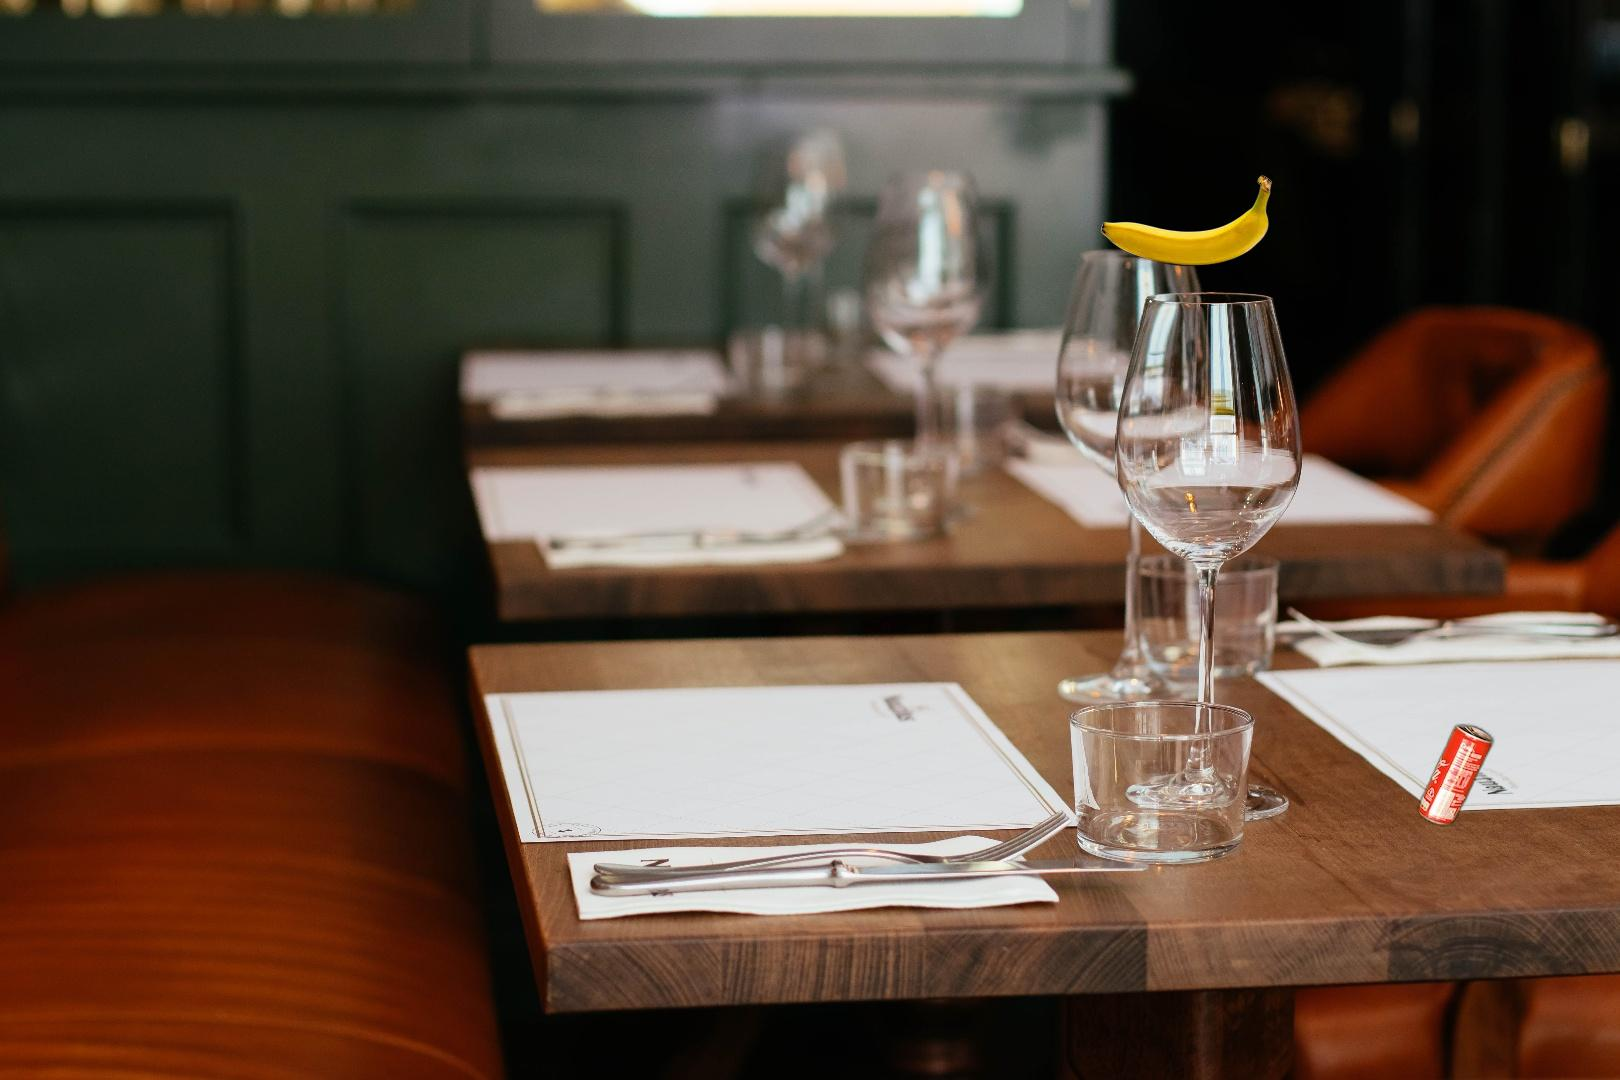biological: (1098, 172, 1275, 269)
metal-cans: (1414, 718, 1498, 832)
